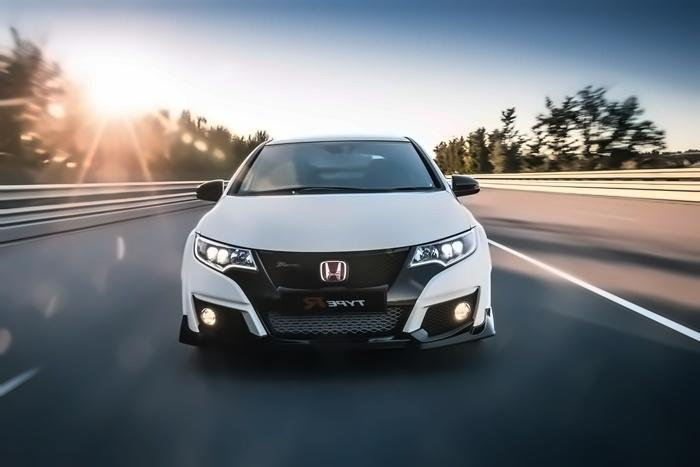Car hood: (192, 192, 474, 253)
Front bumper: (179, 247, 496, 353)
Headlight - -L-: (407, 225, 477, 273)
Headlight - -R-: (192, 232, 259, 275)
Side mirror - -L-: (447, 174, 481, 197)
Side mirror - -R-: (195, 177, 226, 206)
